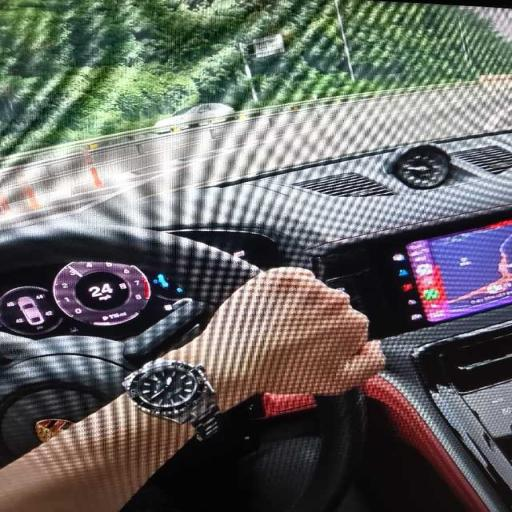car: (0, 0, 511, 511), (153, 104, 235, 133)
person: (164, 268, 384, 410)
